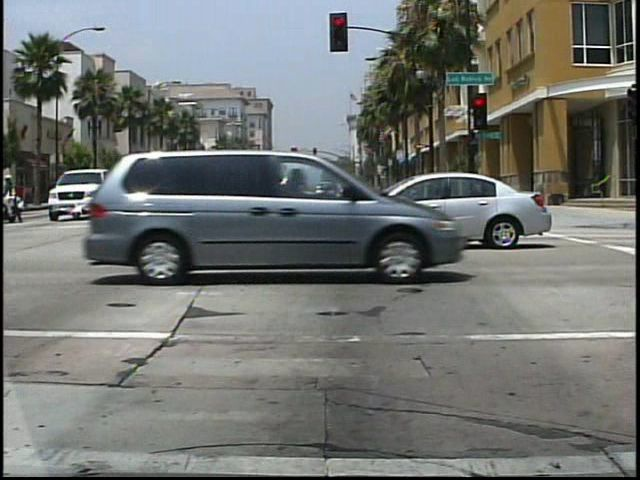person: (3, 170, 30, 226)
